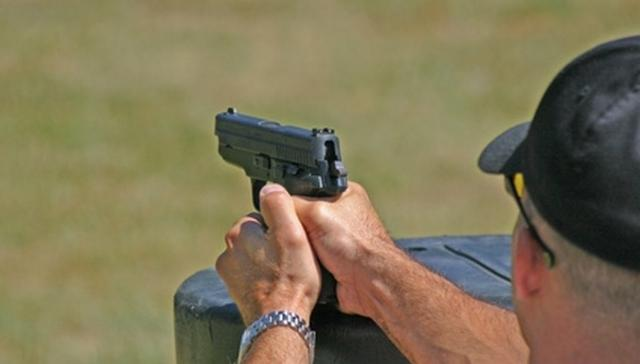handgun: (212, 104, 351, 314)
